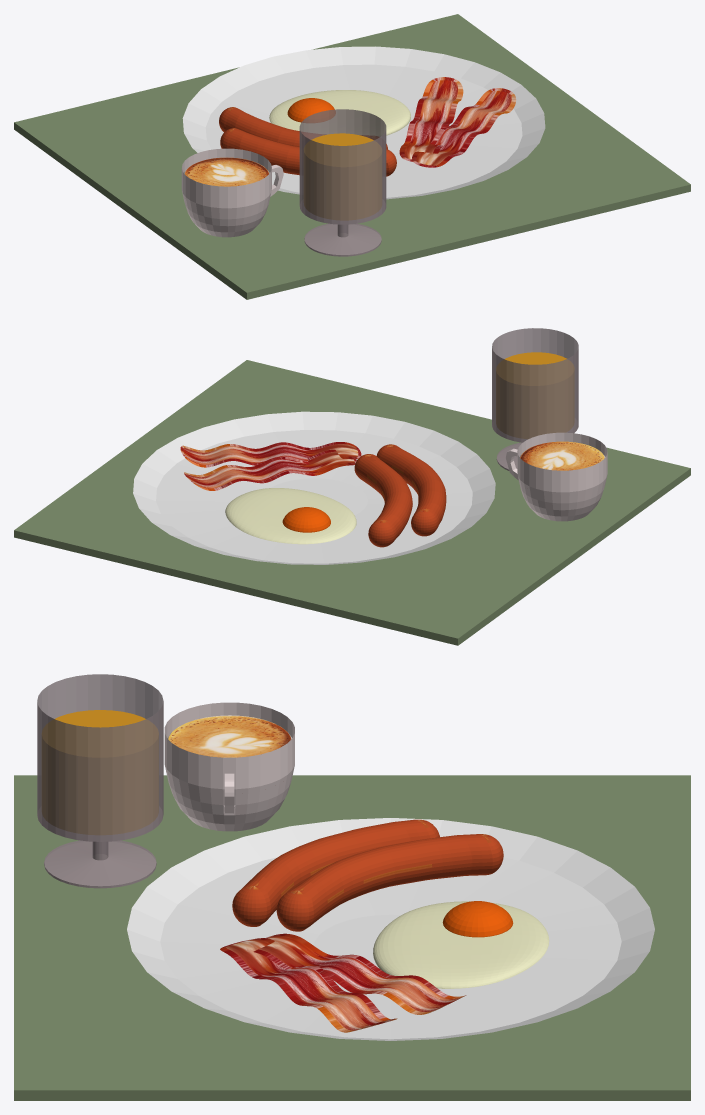
Rendered from menu2America.glb.
The picture shows the model from 3 angles, top to bottom: view 1: azimuth 30°, elevation 25°; view 2: azimuth 150°, elevation 25°; view 3: azimuth 270°, elevation 25°; orthographic projection. The views are drawn at different scales.
Parts seen in each view (by area): view 1: Cube, Cylinder, Cylinder.010, Cylinder.011, Circle, Plane.002, Plane, Plane.001, Sphere.008, Cylinder.012, Sphere.007, Sphere; view 2: Cube, Cylinder, Cylinder.010, Cylinder.011, Circle, Plane.002, Sphere.007, Sphere.008, Plane.001, Plane, Cylinder.012, Sphere; view 3: Cube, Cylinder, Cylinder.010, Cylinder.011, Circle, Plane.002, Sphere.007, Sphere.008, Plane.001, Plane, Cylinder.012, Sphere.
Part boxes in pixels (<box>): Cube: <box>14,14,690,299</box>; Cylinder: <box>182,46,545,199</box>; Cylinder.010: <box>299,109,386,256</box>; Cylinder.011: <box>304,133,381,219</box>; Circle: <box>181,148,283,237</box>; Plane.002: <box>269,90,410,136</box>; Plane: <box>412,88,516,167</box>; Plane.001: <box>399,77,463,161</box>; Sphere.008: <box>220,128,396,176</box>; Cylinder.012: <box>184,157,269,186</box>; Sphere.007: <box>219,107,387,149</box>; Sphere: <box>287,98,335,122</box>; Cube: <box>14,360,690,645</box>; Cylinder: <box>133,411,495,564</box>; Cylinder.010: <box>492,328,578,470</box>; Cylinder.011: <box>496,352,573,438</box>; Circle: <box>506,432,607,521</box>; Plane.002: <box>225,488,356,544</box>; Sphere.007: <box>354,454,412,547</box>; Sphere.008: <box>376,444,446,536</box>; Plane.001: <box>184,449,356,490</box>; Plane: <box>180,442,361,467</box>; Cylinder.012: <box>519,441,605,470</box>; Sphere: <box>282,507,330,532</box>; Cube: <box>14,775,690,1100</box>; Cylinder: <box>127,818,654,1040</box>; Cylinder.010: <box>37,674,163,888</box>; Cylinder.011: <box>42,710,158,834</box>; Circle: <box>164,702,294,831</box>; Plane.002: <box>373,901,549,988</box>; Sphere.007: <box>276,834,503,931</box>; Sphere.008: <box>232,819,439,926</box>; Plane.001: <box>253,933,466,1014</box>; Plane: <box>220,938,397,1032</box>; Cylinder.012: <box>167,715,292,757</box>; Sphere: <box>442,901,513,937</box>.
Size of the model in its own units: 22.67 by 5.85 by 20.59.
13 materials, 6 textured.
